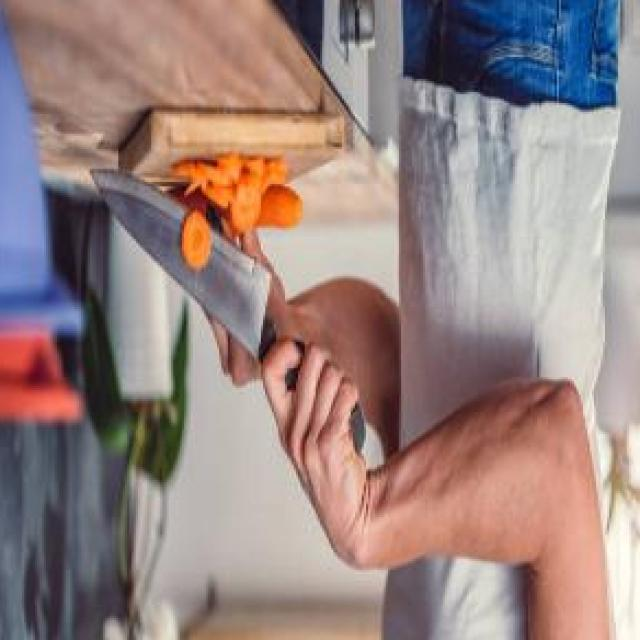knife: (88, 168, 362, 464)
